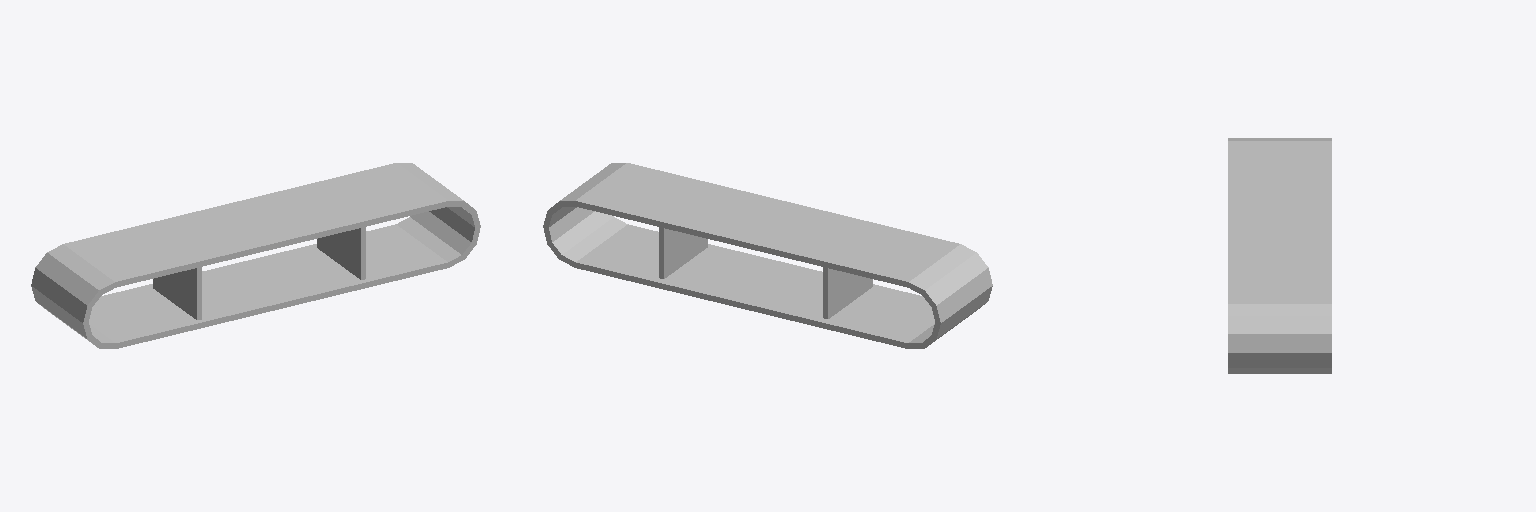
File: SM_Shelf_02.obj
3 views of the same model, side by side, from view 1: azimuth 30°, elevation 25°; view 2: azimuth 150°, elevation 25°; view 3: azimuth 270°, elevation 25° (orthographic).
Parts seen in each view (by area): view 1: SM_Shelf:SM_Shelf1; view 2: SM_Shelf:SM_Shelf1; view 3: SM_Shelf:SM_Shelf1.
Boxes of the visible parts, <box> form: SM_Shelf:SM_Shelf1: <box>31,163,480,348</box>; SM_Shelf:SM_Shelf1: <box>543,163,992,348</box>; SM_Shelf:SM_Shelf1: <box>1228,138,1331,373</box>.
Bounding box in the file's own units: 3.63 × 0.5861 × 0.8237.